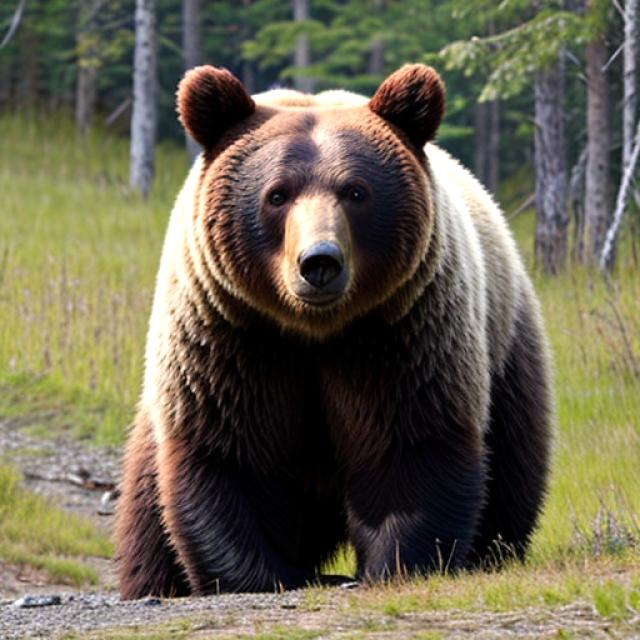bear: (155, 52, 498, 337)
